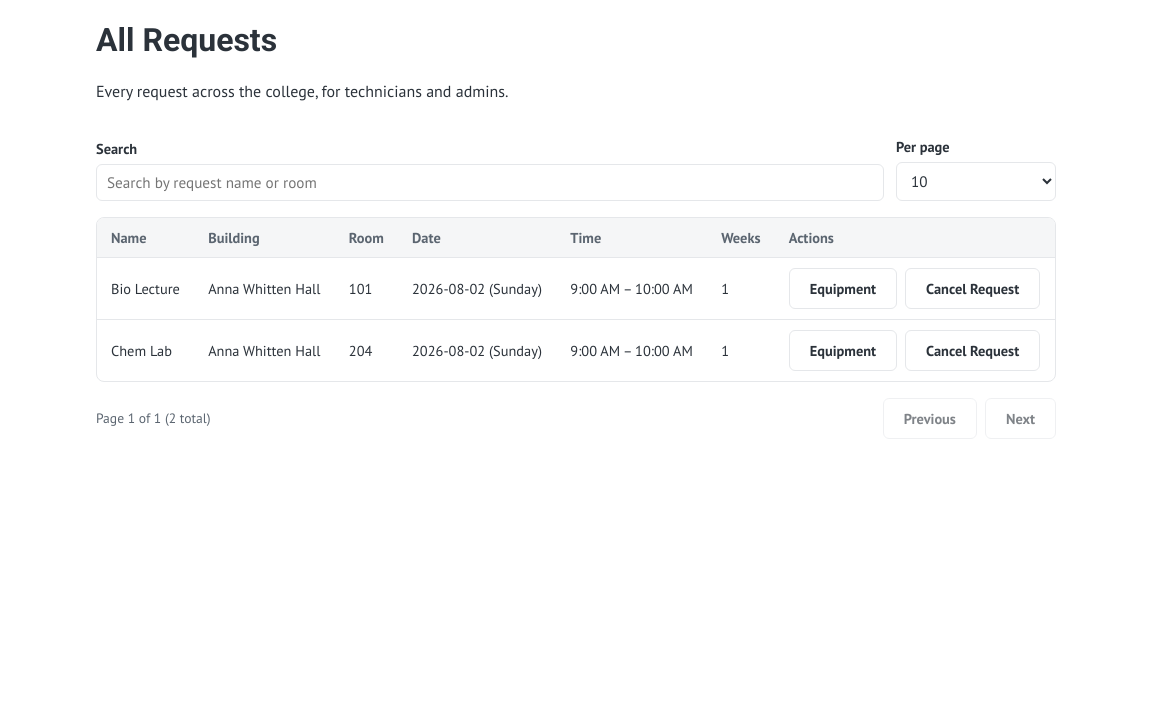
Test: hiding the track clears the highlight and the legend
Click the button "Equipment" in the row of "Bio Lecture" at (843, 288), box [789, 268, 897, 309]
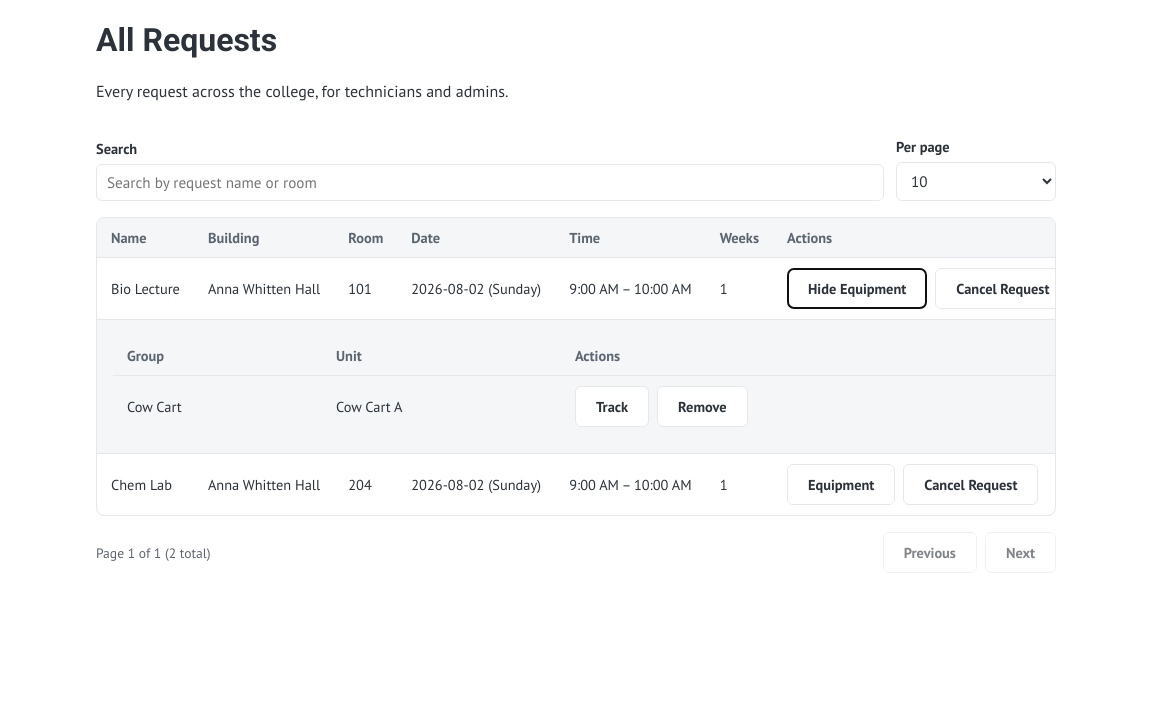
Click the button "Track" at (612, 407), box [575, 386, 649, 427]
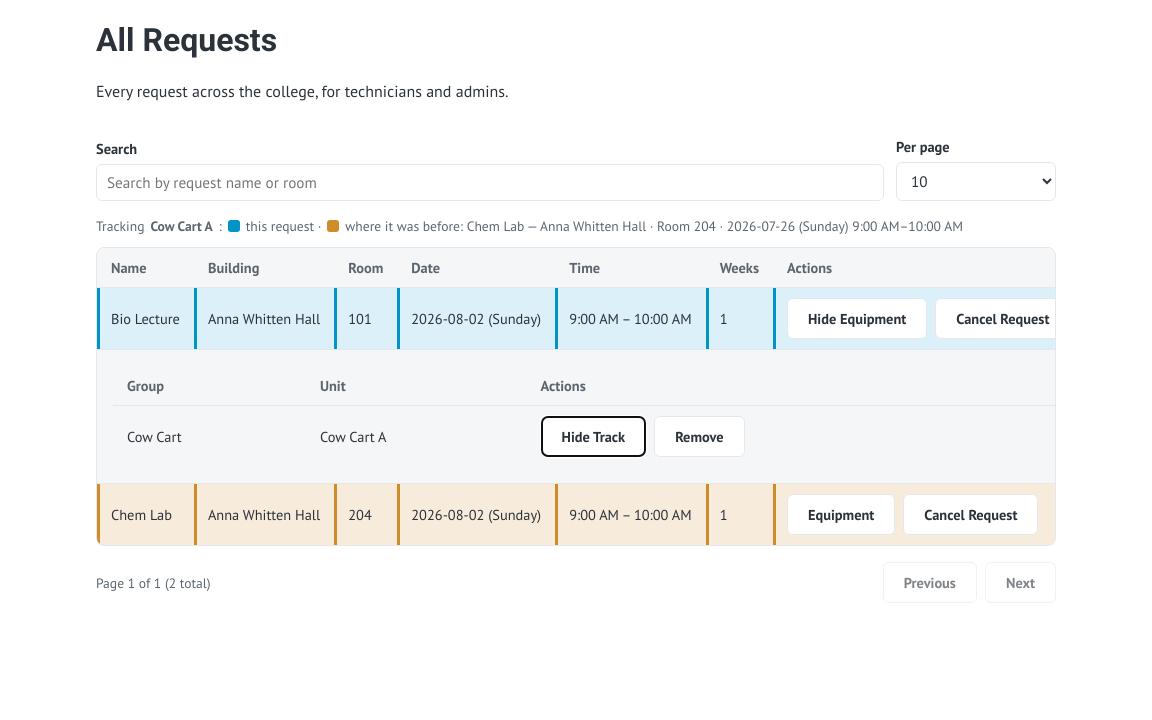
Check: the text "Tracking" is shown, box [96, 217, 144, 235]
Click the button "Hide Track" at (593, 437), box [540, 416, 646, 457]
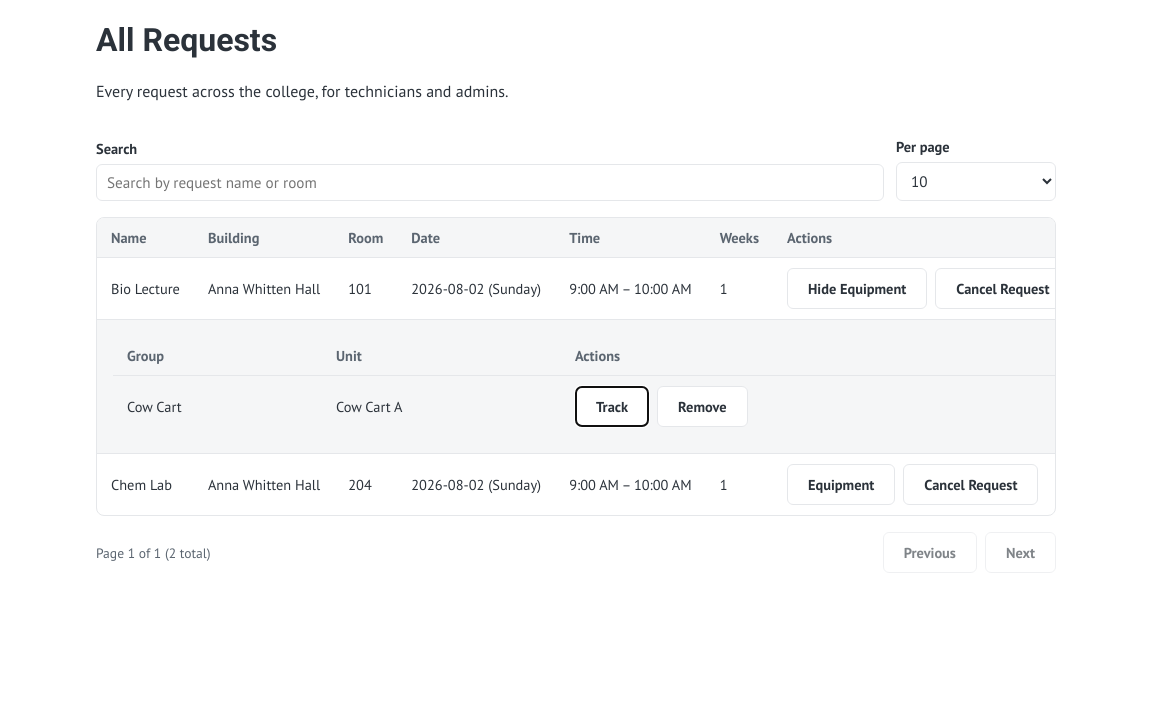
Check: the text "Tracking" is gone
